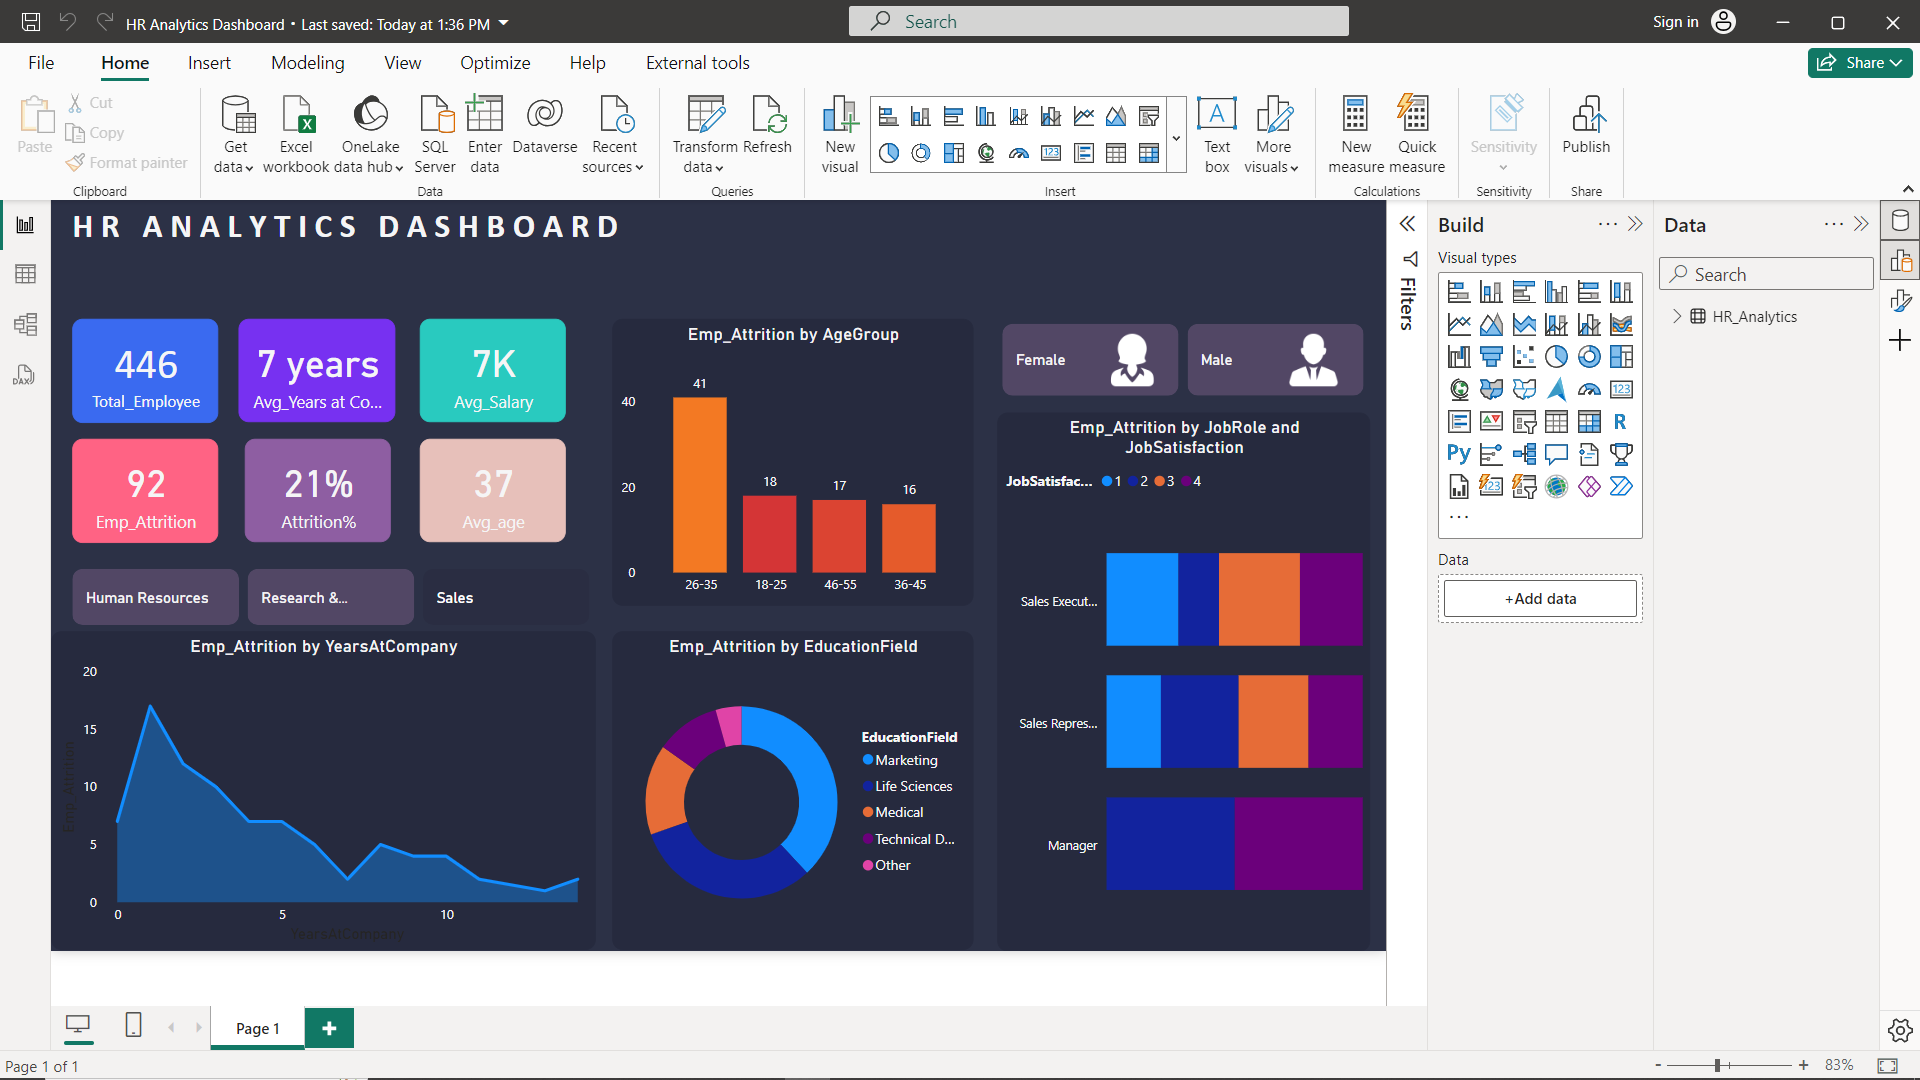

Layout of this report page (visuals, bound fields, positions):
{"tool":"powerbi","page":{"name":"Page 1","canvas":[1280,720],"ordinal":0},"visuals":[{"type":"advancedSlicerVisual","fields":{"Values":["HR_Analytics.Gender"]},"box":[907.5,114,357.8,79.4],"z":0},{"type":"image","box":[1007,121.2,60.6,64.9],"z":1000},{"type":"image","box":[1180.2,121.2,60.6,64.9],"z":2000},{"type":"card","fields":{"Values":["HR_Analytics.Total_Employee"]},"box":[20.2,114,140,100],"z":3000},{"type":"card","fields":{"Values":["HR_Analytics.Attrition%"]},"box":[20.2,229.4,140,100],"z":4000},{"type":"card","fields":{"Values":["HR_Analytics.Text_years"]},"box":[180.3,114,150,99.6],"z":5000},{"type":"card","fields":{"Values":["HR_Analytics.Attrition%"]},"box":[186.1,229.4,139.9,99.6],"z":6000},{"type":"card","fields":{"Values":["HR_Analytics.Avg_Salary"]},"box":[353.5,114,139.9,99.6],"z":7000},{"type":"card","fields":{"Values":["HR_Analytics.Avg_age"]},"box":[353.5,229.4,139.9,99.6],"z":8000},{"type":"areaChart","fields":{"Category":["HR_Analytics.YearsAtCompany"],"Y":["HR_Analytics.Employee_Attrition"]},"box":[0,414.1,522.3,305.9],"z":9000},{"type":"donutChart","fields":{"Y":["HR_Analytics.Employee_Attrition"],"Category":["HR_Analytics.EducationField"]},"box":[538.2,414.1,346.3,305.9],"z":10000},{"type":"columnChart","fields":{"Category":["HR_Analytics.AgeGroup"],"Y":["HR_Analytics.Employee_Attrition"]},"box":[538.2,114,346.3,275.6],"z":11000},{"type":"hundredPercentStackedBarChart","fields":{"Category":["HR_Analytics.JobRole"],"Y":["HR_Analytics.Employee_Attrition"],"Series":["HR_Analytics.JobSatisfaction"]},"box":[907.5,203.4,357.8,516.5],"z":12000},{"type":"textbox","box":[15.6,0,561.5,54.7],"z":13000},{"type":"advancedSlicerVisual","fields":{"Values":["HR_Analytics.Department"]},"box":[15.9,349.1,506.4,64.9],"z":14000}]}

Visuals, with their boxes on the page's 1280x720 design canvas (x1, y1, x2, y2). These are canvas units, not pixel positions in the 1920x1080 screenshot, which may show the page scaled, cropped or inside an application window:
advancedSlicerVisual - HR_Analytics.Gender: left=908, top=114, right=1265, bottom=193
image: left=1007, top=121, right=1068, bottom=186
image: left=1180, top=121, right=1241, bottom=186
card - HR_Analytics.Total_Employee: left=20, top=114, right=160, bottom=214
card - HR_Analytics.Attrition%: left=20, top=229, right=160, bottom=329
card - HR_Analytics.Text_years: left=180, top=114, right=330, bottom=214
card - HR_Analytics.Attrition%: left=186, top=229, right=326, bottom=329
card - HR_Analytics.Avg_Salary: left=354, top=114, right=493, bottom=214
card - HR_Analytics.Avg_age: left=354, top=229, right=493, bottom=329
areaChart - HR_Analytics.YearsAtCompany x HR_Analytics.Employee_Attrition: left=0, top=414, right=522, bottom=720
donutChart - HR_Analytics.Employee_Attrition x HR_Analytics.EducationField: left=538, top=414, right=884, bottom=720
columnChart - HR_Analytics.AgeGroup x HR_Analytics.Employee_Attrition: left=538, top=114, right=884, bottom=390
hundredPercentStackedBarChart - HR_Analytics.JobRole x HR_Analytics.Employee_Attrition: left=908, top=203, right=1265, bottom=720
textbox: left=16, top=0, right=577, bottom=55
advancedSlicerVisual - HR_Analytics.Department: left=16, top=349, right=522, bottom=414
